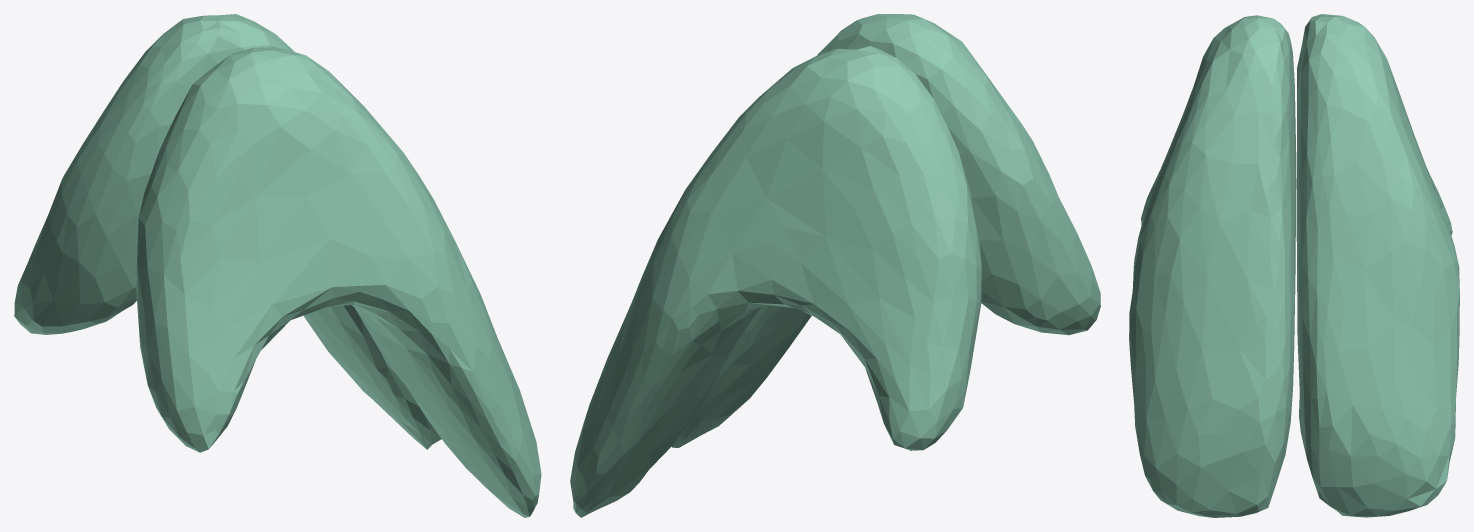
The picture shows the model from 3 angles, left to right: view 1: azimuth 30°, elevation 25°; view 2: azimuth 150°, elevation 25°; view 3: azimuth 270°, elevation 25°; orthographic projection. The views are drawn at different scales.
Visible parts, largest first — view 1: 597.obj; view 2: 597.obj; view 3: 597.obj.
Boxes of the visible parts, x1=… form: 597.obj: x1=14, y1=14, x2=541, y2=517; 597.obj: x1=570, y1=14, x2=1100, y2=517; 597.obj: x1=1129, y1=14, x2=1459, y2=517.
Size of the model in its own units: 1273 by 1551 by 1145.
